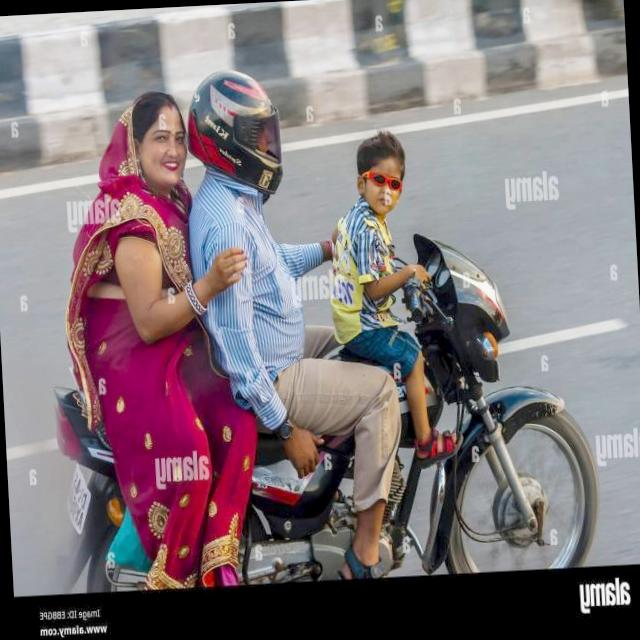motorcycle: (40, 220, 613, 600)
person: (55, 86, 256, 596), (180, 59, 370, 487), (324, 130, 429, 390)
rider_region: (39, 50, 602, 602)
